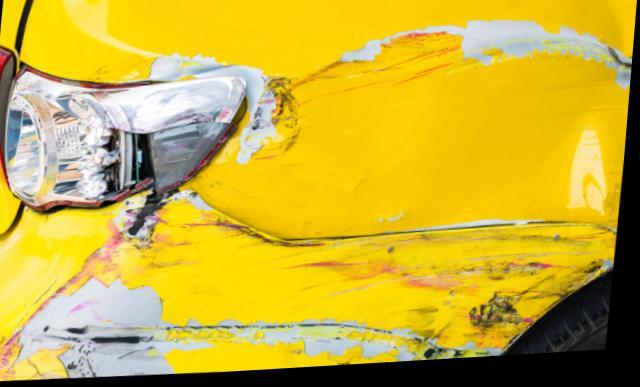dent: (569, 113, 630, 232), (570, 0, 638, 63)
lamp broken: (7, 62, 247, 209)
scratch: (0, 191, 622, 381), (242, 23, 634, 167)
